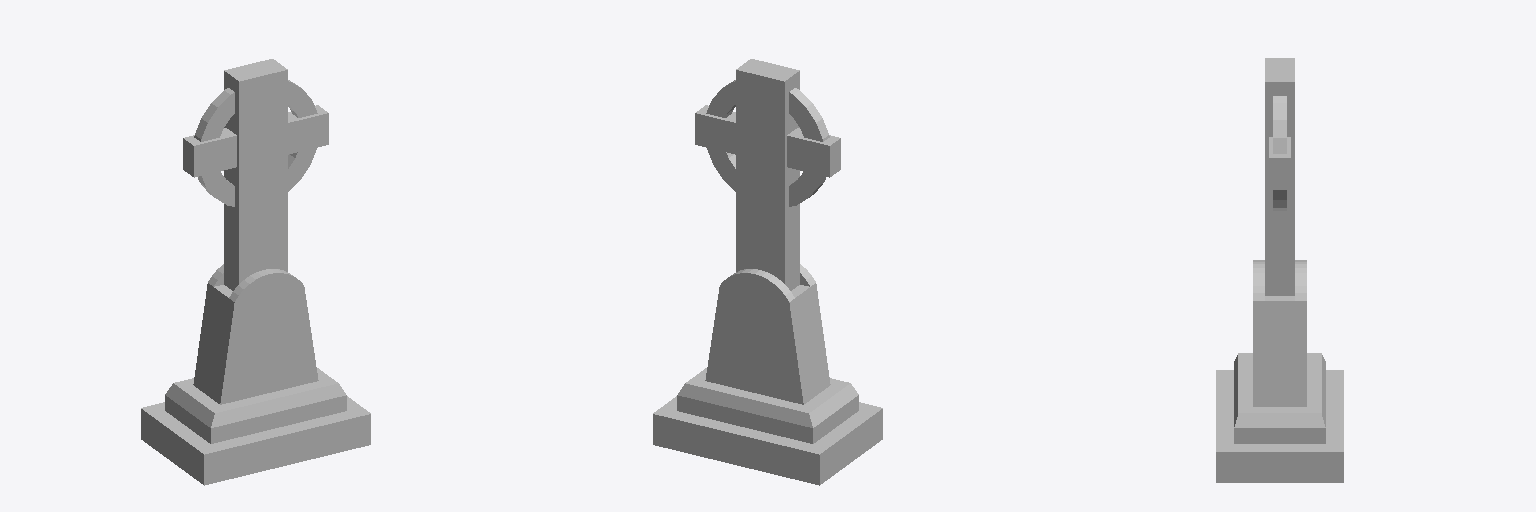
3 renders of one model, left to right at view 1: azimuth 30°, elevation 25°; view 2: azimuth 150°, elevation 25°; view 3: azimuth 270°, elevation 25°, orthographic.
Parts seen in each view (by area): view 1: gravestoneCrossLarge; view 2: gravestoneCrossLarge; view 3: gravestoneCrossLarge.
Part boxes in pixels (bbox=[...]): gravestoneCrossLarge: bbox=[141, 59, 370, 485]; gravestoneCrossLarge: bbox=[653, 59, 882, 485]; gravestoneCrossLarge: bbox=[1216, 58, 1343, 482].
Bounding box in the file's own units: 0.4706 × 1 × 0.3104.